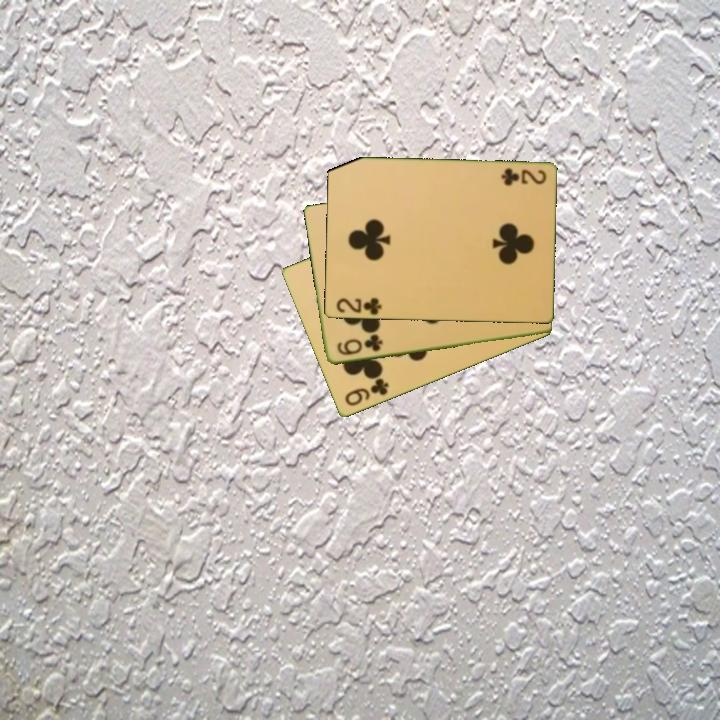2c: (333, 295, 384, 318), (498, 165, 549, 187)
6c: (333, 332, 385, 359)
9c: (341, 375, 392, 409)
